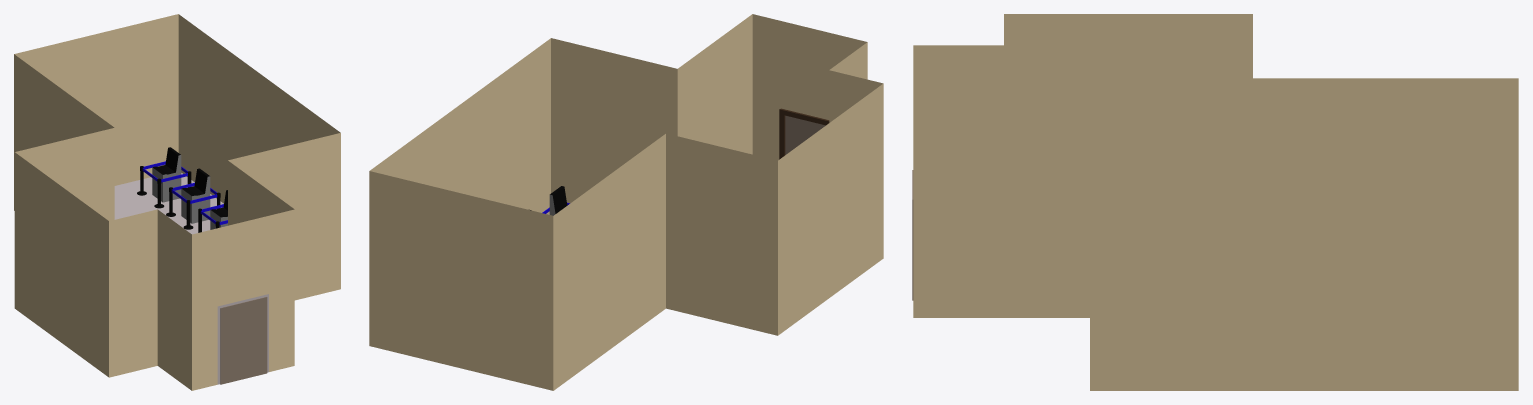
File: ruangan.fbx
The picture shows the model from 3 angles, left to right: view 1: azimuth 30°, elevation 25°; view 2: azimuth 150°, elevation 25°; view 3: azimuth 270°, elevation 25°; orthographic projection. The views are drawn at different scales.
Visible parts, largest first — view 1: Ruangan, Cube, Tempat, Pembatas; view 2: Ruangan, Cube; view 3: Ruangan.
Part boxes in pixels (<box>): Ruangan: <box>14,14,340,390</box>; Cube: <box>220,297,267,384</box>; Tempat: <box>152,147,227,229</box>; Pembatas: <box>137,161,227,232</box>; Ruangan: <box>369,14,883,390</box>; Cube: <box>785,115,825,154</box>; Ruangan: <box>913,14,1518,390</box>.
Bounding box in the file's own units: 7738 × 4389 × 11643.
